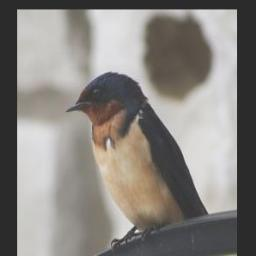Swallow: (64, 70, 211, 254)
